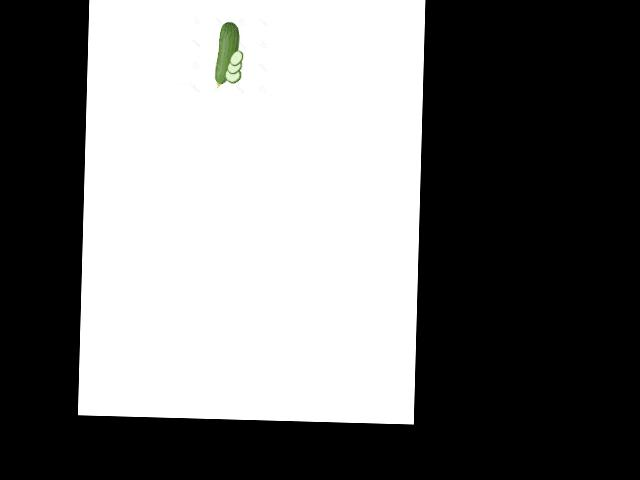cucumber: (215, 20, 240, 88)
